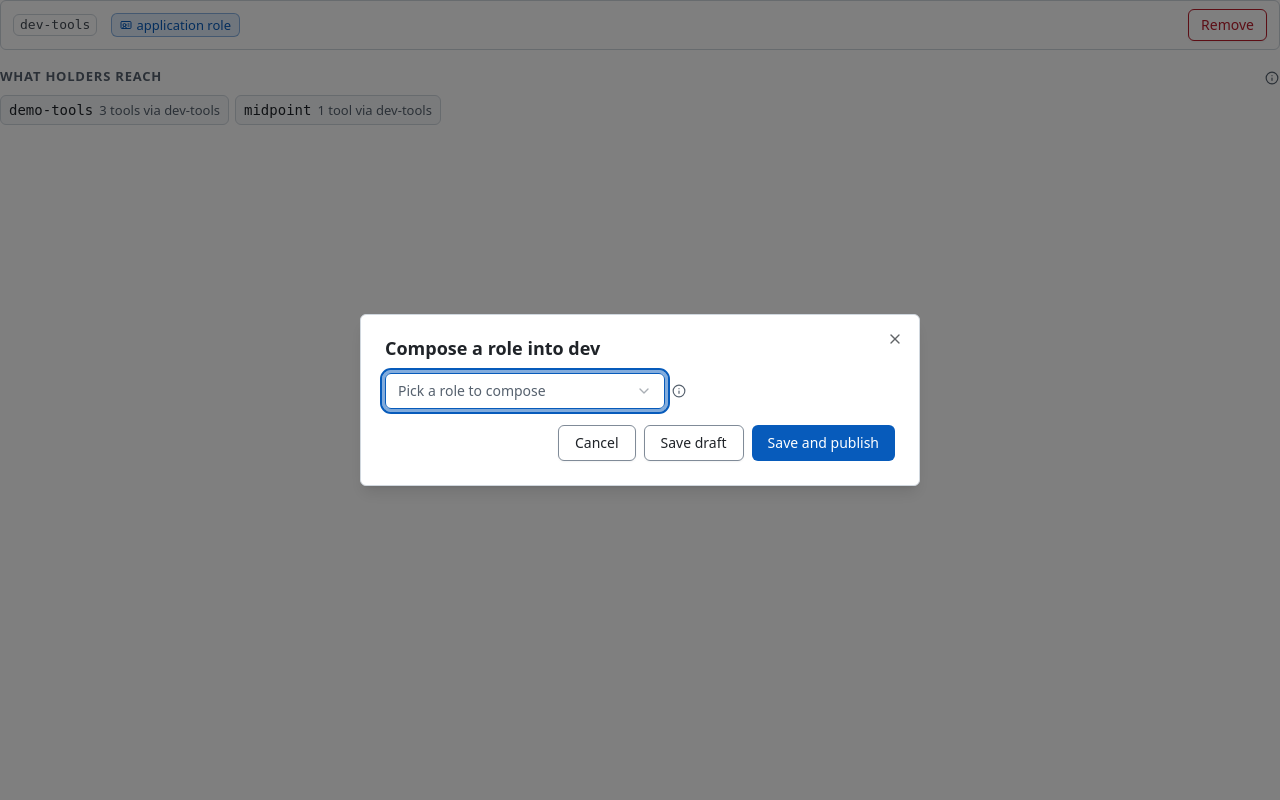
Test: the Composes tab › keeps a refused edge in the dialog with the server's own sentence, and stores nothing
Expected: the dialog is shown, [360,314,920,486]
Click the dropdown labelled "Pick a role to compose" at [525, 391], box [385,373,665,409]
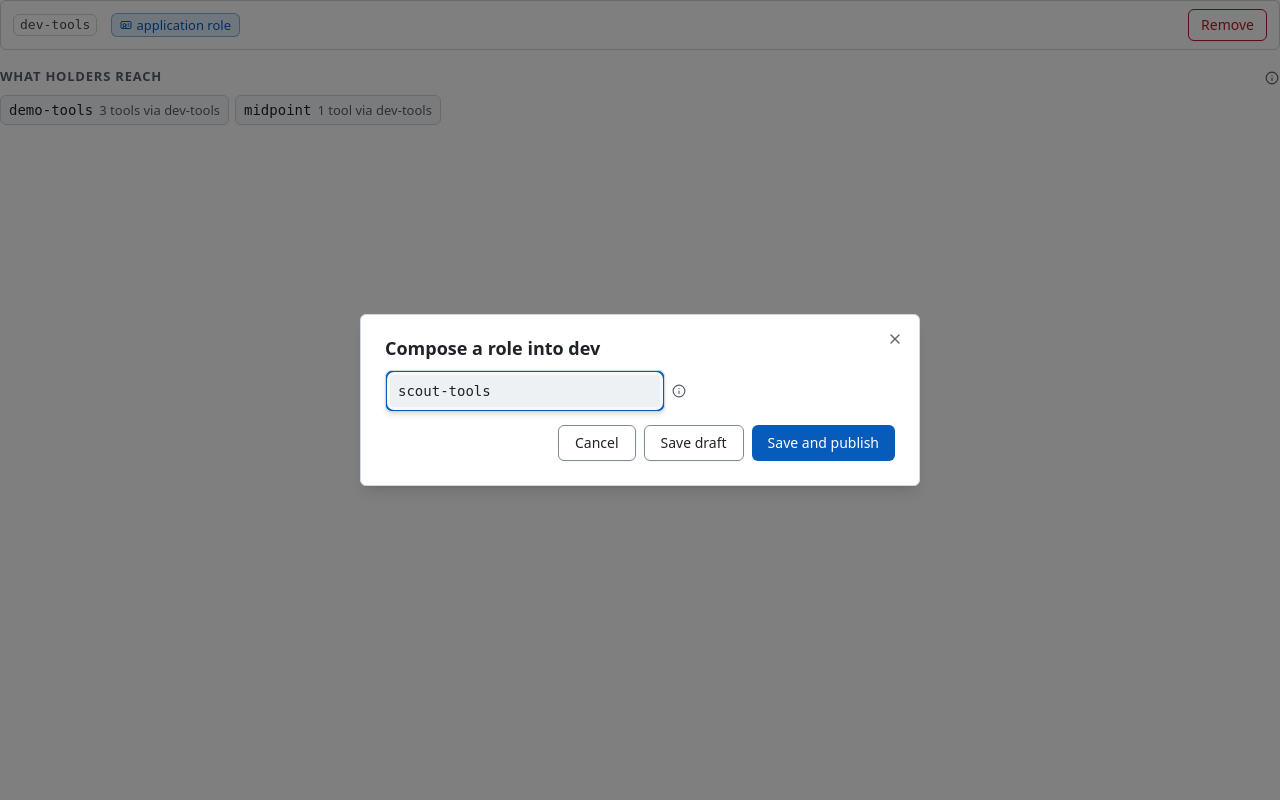
Click the option "scout-tools" at [444, 391], box [390,375,660,407]
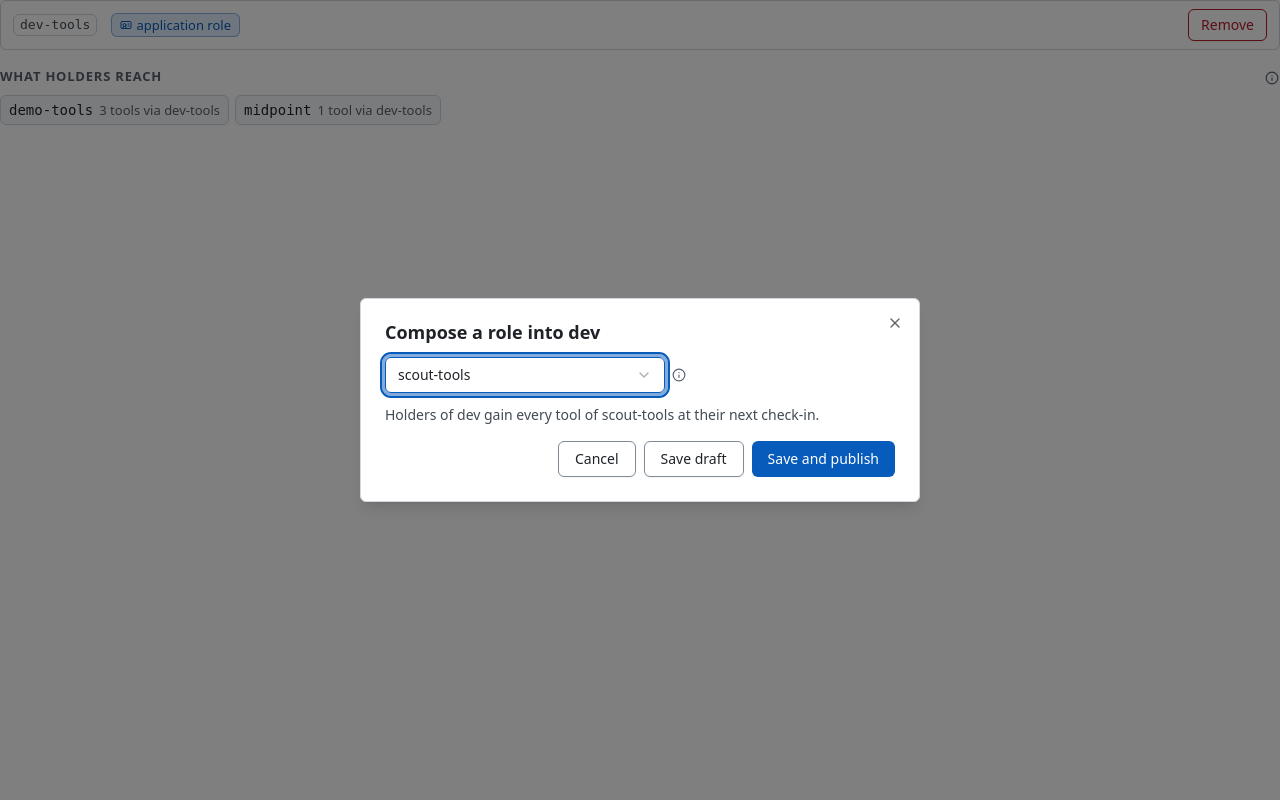
Click the button "Save and publish" at [823, 459], box [752,441,895,477]
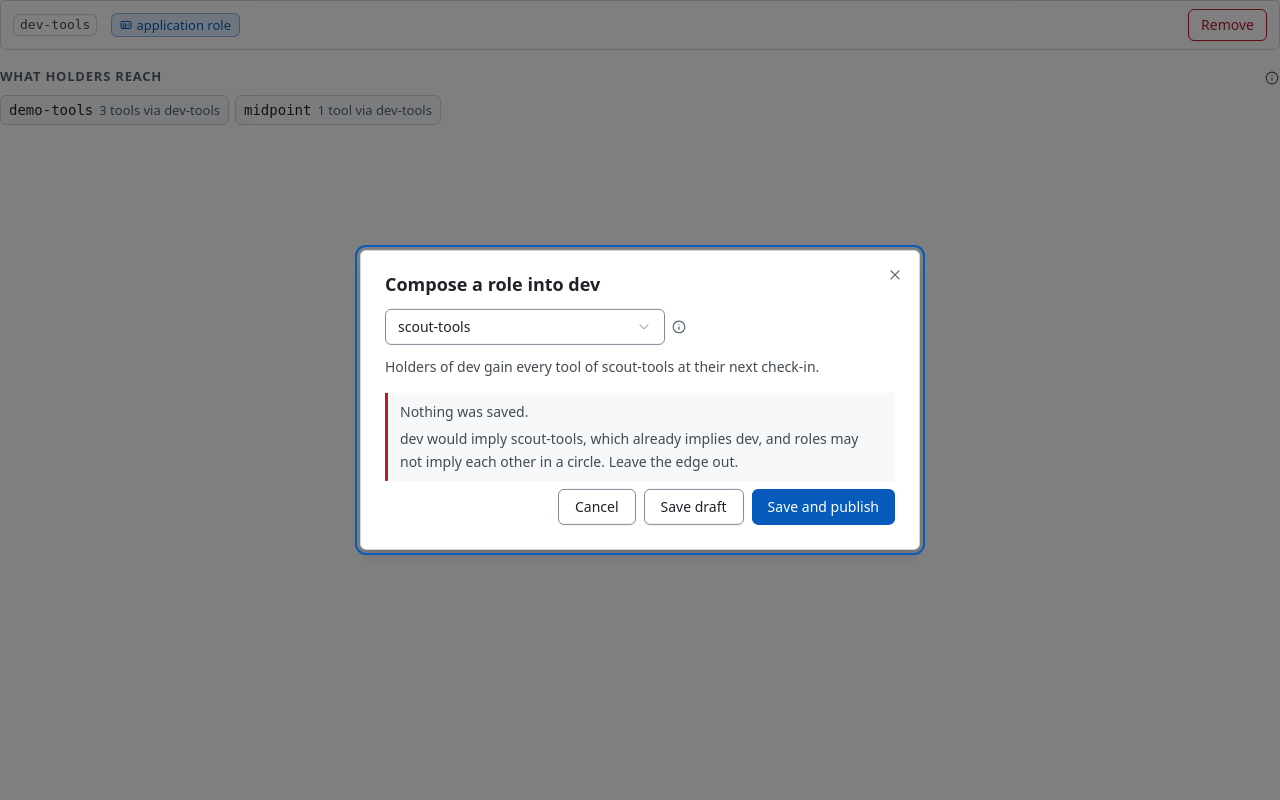
Expected: the text "in a circle" shows "dev would imply scout-tools, which already implies dev, and roles may not imply each other in a circle. Leave the edge out.", [400,429,858,470]
